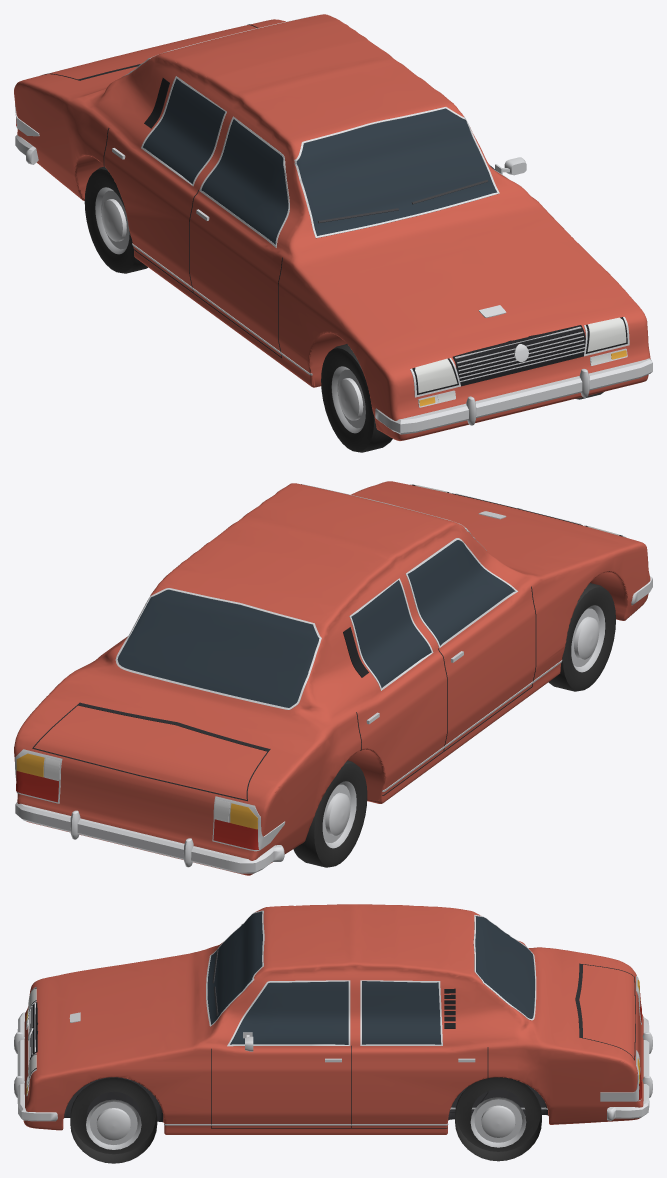
3 renders of one model, top to bottom at view 1: azimuth 30°, elevation 25°; view 2: azimuth 150°, elevation 25°; view 3: azimuth 270°, elevation 25°, orthographic. The views are drawn at different scales.
Visible parts, largest first — view 1: paint, glass, trim, wheel_fr, wheel_rr, headlights; view 2: paint, glass, trim, wheel_rr, wheel_fr, taillights, reverse_lights; view 3: paint, glass, trim, wheel_fl, wheel_rl.
Part boxes in pixels (<box>): paint: <box>14,14,650,440</box>; glass: <box>143,78,497,244</box>; trim: <box>15,15,652,434</box>; wheel_fr: <box>321,344,392,452</box>; wheel_rr: <box>84,166,147,273</box>; headlights: <box>415,317,626,393</box>; paint: <box>14,481,650,875</box>; glass: <box>117,540,515,707</box>; trim: <box>15,484,652,873</box>; wheel_rr: <box>293,760,367,867</box>; wheel_fr: <box>548,583,615,691</box>; taillights: <box>16,771,258,849</box>; reverse_lights: <box>44,757,229,822</box>; paint: <box>23,904,643,1134</box>; glass: <box>207,911,534,1044</box>; trim: <box>14,910,652,1128</box>; wheel_fl: <box>70,1078,157,1163</box>; wheel_rl: <box>455,1077,541,1161</box>.
Bounding box in the file's own units: 1.77 × 1.46 × 4.55.
